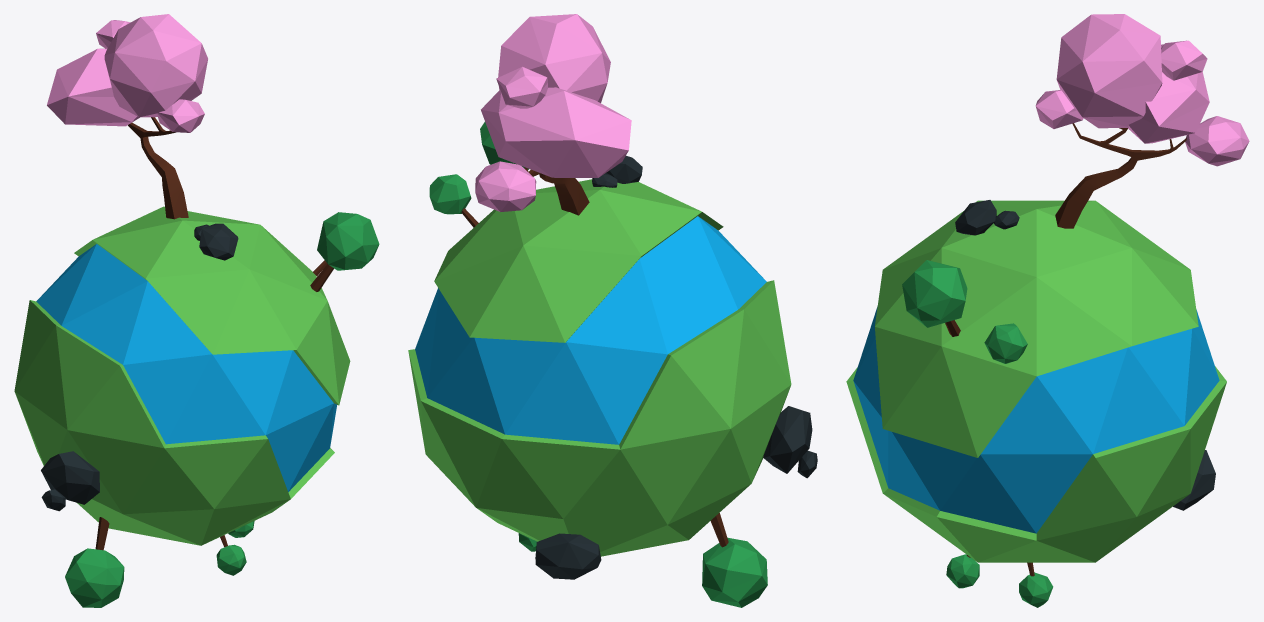
The model's file is planet8.glb.
3 renders of one model, left to right at view 1: azimuth 30°, elevation 25°; view 2: azimuth 150°, elevation 25°; view 3: azimuth 270°, elevation 25°, orthographic. The views are drawn at different scales.
Parts seen in each view (by area): view 1: Icosphere, Icosphere.003, Icosphere.002, Icosphere.008, Icosphere.012, Icosphere.010, Cube, Icosphere.004, Icosphere.006, Icosphere.014; view 2: Icosphere, Icosphere.002, Icosphere.003, Icosphere.012, Icosphere.001, Icosphere.015, Icosphere.010, Icosphere.005, Icosphere.009, Cube, Icosphere.006; view 3: Icosphere, Icosphere.003, Icosphere.002, Icosphere.008, Cube, Icosphere.001, Icosphere.005, Icosphere.009, Icosphere.004, Icosphere.006, Icosphere.015, Icosphere.013 (+1 smaller).
Part boxes in pixels (x1,y1,x2,y2): Icosphere: (14, 206, 350, 545); Icosphere.003: (104, 14, 207, 117); Icosphere.002: (47, 48, 139, 126); Icosphere.008: (310, 212, 379, 291); Icosphere.012: (65, 517, 124, 607); Icosphere.010: (41, 451, 99, 504); Cube: (128, 117, 188, 219); Icosphere.004: (157, 99, 204, 132); Icosphere.006: (199, 223, 238, 260); Icosphere.014: (216, 535, 246, 575); Icosphere: (408, 179, 791, 556); Icosphere.002: (481, 87, 631, 177); Icosphere.003: (498, 14, 610, 102); Icosphere.012: (702, 513, 767, 607); Icosphere.001: (475, 161, 536, 211); Icosphere.015: (535, 533, 601, 579); Icosphere.010: (763, 406, 812, 473); Icosphere.005: (496, 66, 547, 108); Icosphere.009: (429, 174, 478, 227); Cube: (525, 167, 589, 215); Icosphere.006: (606, 155, 642, 183); Icosphere: (846, 200, 1226, 562); Icosphere.003: (1056, 14, 1162, 128); Icosphere.002: (1128, 44, 1209, 143); Icosphere.008: (902, 260, 967, 336); Cube: (1055, 123, 1186, 228); Icosphere.001: (1185, 116, 1249, 166); Icosphere.005: (1160, 40, 1207, 80); Icosphere.009: (984, 323, 1027, 363); Icosphere.004: (1035, 90, 1083, 128); Icosphere.006: (955, 200, 996, 235); Icosphere.015: (1173, 450, 1215, 510); Icosphere.013: (1019, 562, 1053, 607).
Bounding box in the file's own units: 17.7 × 27.29 × 17.14.
